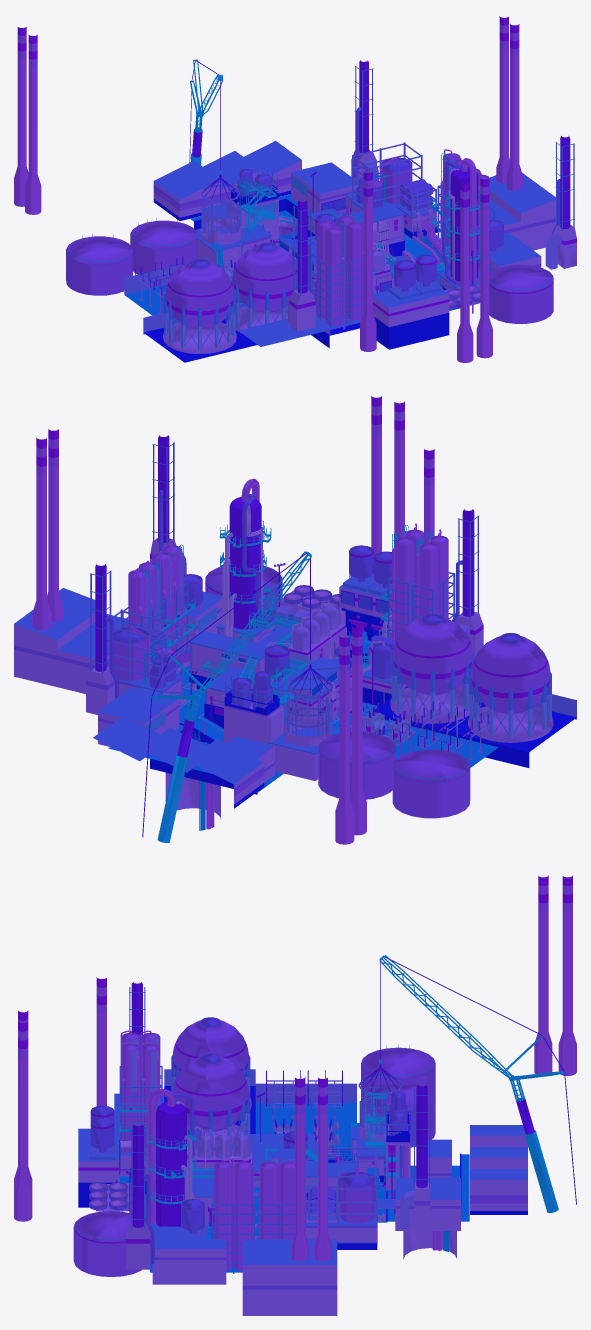
The model's file is refinery.gltf.
3 views of the same model, one above another, from view 1: azimuth 30°, elevation 25°; view 2: azimuth 150°, elevation 25°; view 3: azimuth 270°, elevation 25° (orthographic). The views are drawn at different scales.
Bounding box in the file's own units: 196 × 113 × 206.
